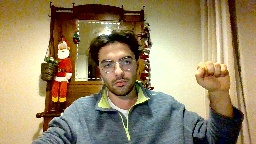Pugno: (192, 58, 232, 93)
